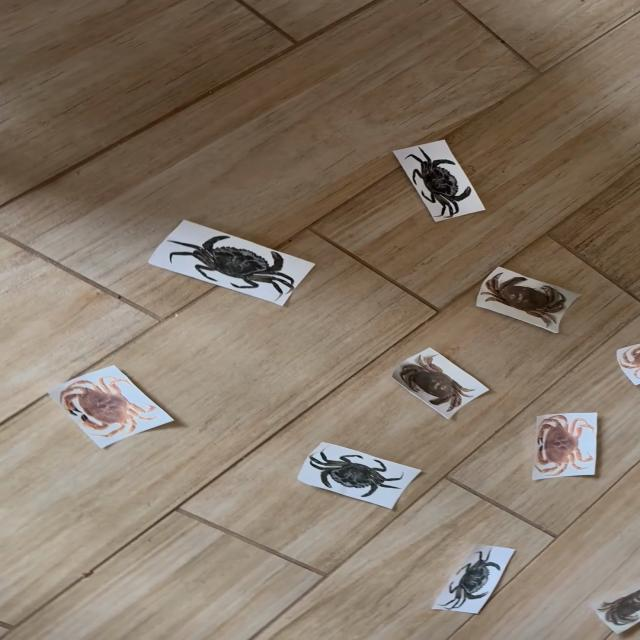egc: (148, 221, 313, 305), (298, 443, 418, 508), (399, 143, 469, 226), (434, 545, 512, 613), (405, 149, 471, 217)
